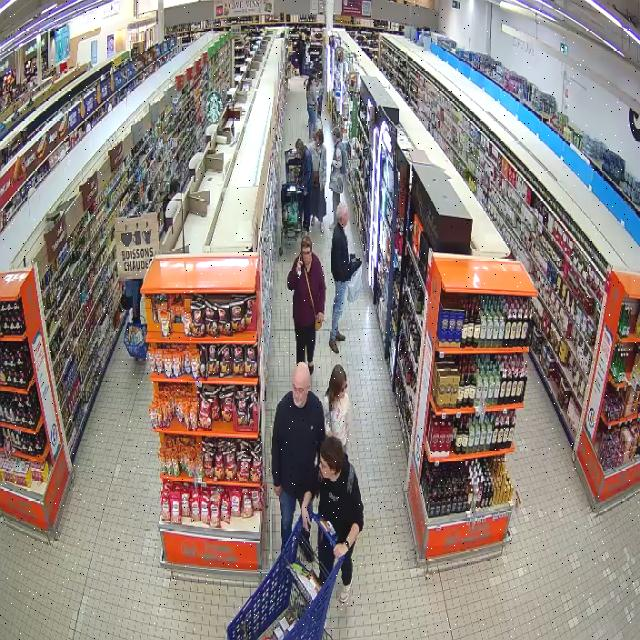bags: (347, 266, 362, 301), (305, 273, 312, 304), (315, 315, 323, 329)
hands: (334, 540, 349, 558), (302, 514, 314, 531), (273, 485, 282, 498), (296, 259, 303, 271), (318, 312, 324, 321)
person: (272, 360, 325, 549), (303, 436, 363, 601), (287, 236, 325, 372), (329, 202, 358, 352), (323, 364, 351, 451), (310, 128, 325, 231), (296, 139, 312, 232), (330, 128, 345, 214)
